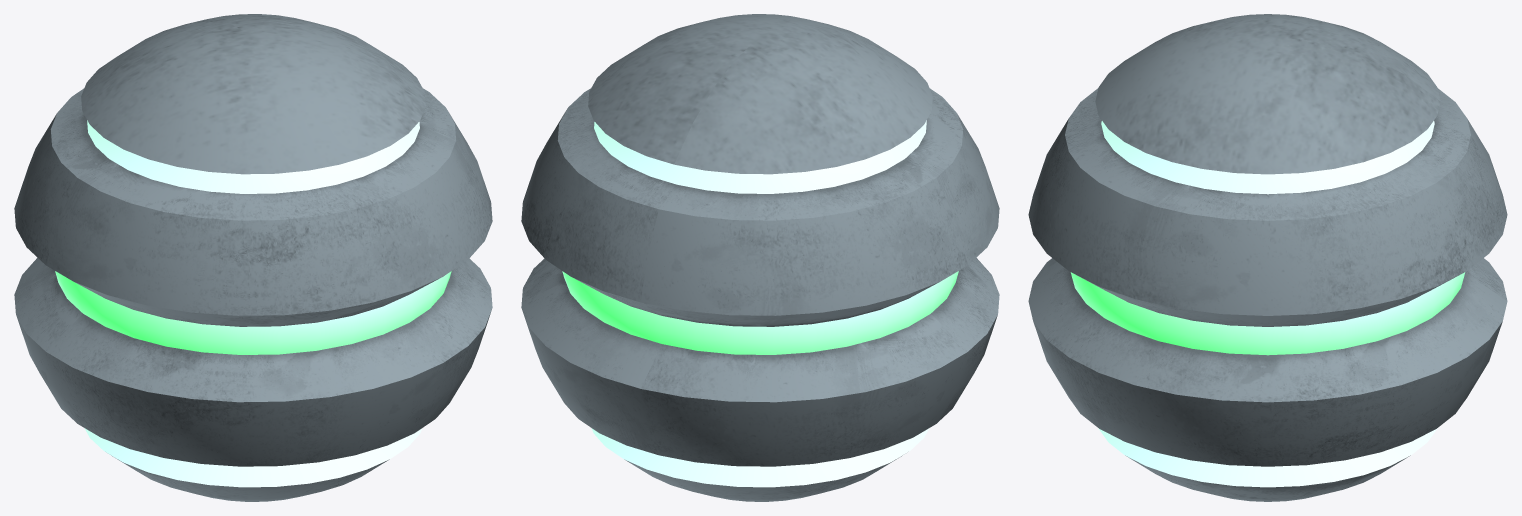
The model's file is Shift.fbx.
3 views of the same model, side by side, from view 1: azimuth 30°, elevation 25°; view 2: azimuth 150°, elevation 25°; view 3: azimuth 270°, elevation 25° (orthographic).
Parts seen in each view (by area): view 1: Shift; view 2: Shift; view 3: Shift.
Part boxes in pixels (<box>): Shift: <box>14,14,492,501</box>; Shift: <box>521,14,999,501</box>; Shift: <box>1028,14,1507,501</box>.
Size of the model in its own units: 66.78 by 68.09 by 66.78.
